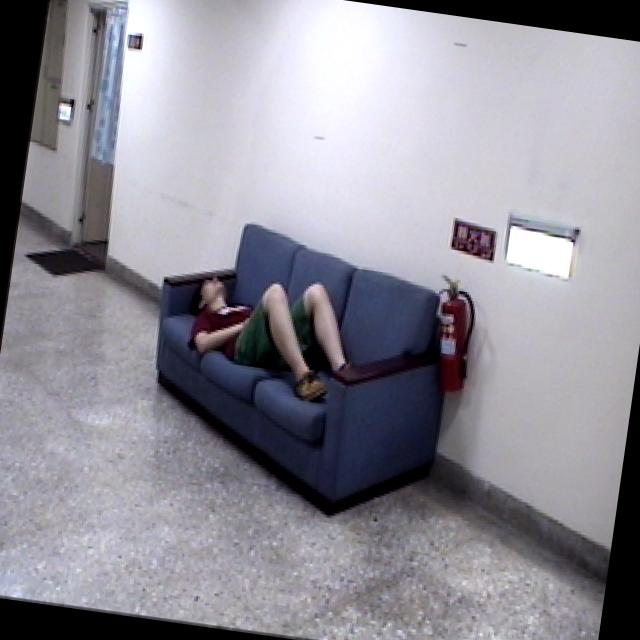lie: (180, 262, 390, 412)
